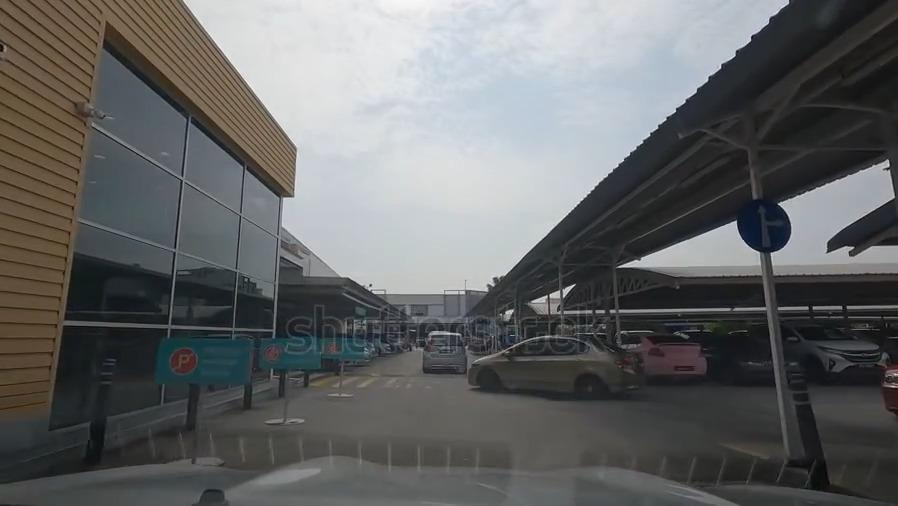car: (470, 338, 642, 395), (782, 319, 886, 381), (624, 329, 709, 381), (713, 337, 803, 383), (421, 330, 466, 371), (881, 356, 898, 417)
pedestrian: (308, 378, 475, 394)
speedbump: (341, 368, 476, 379)
wheel: (472, 371, 502, 395), (580, 374, 599, 399)
